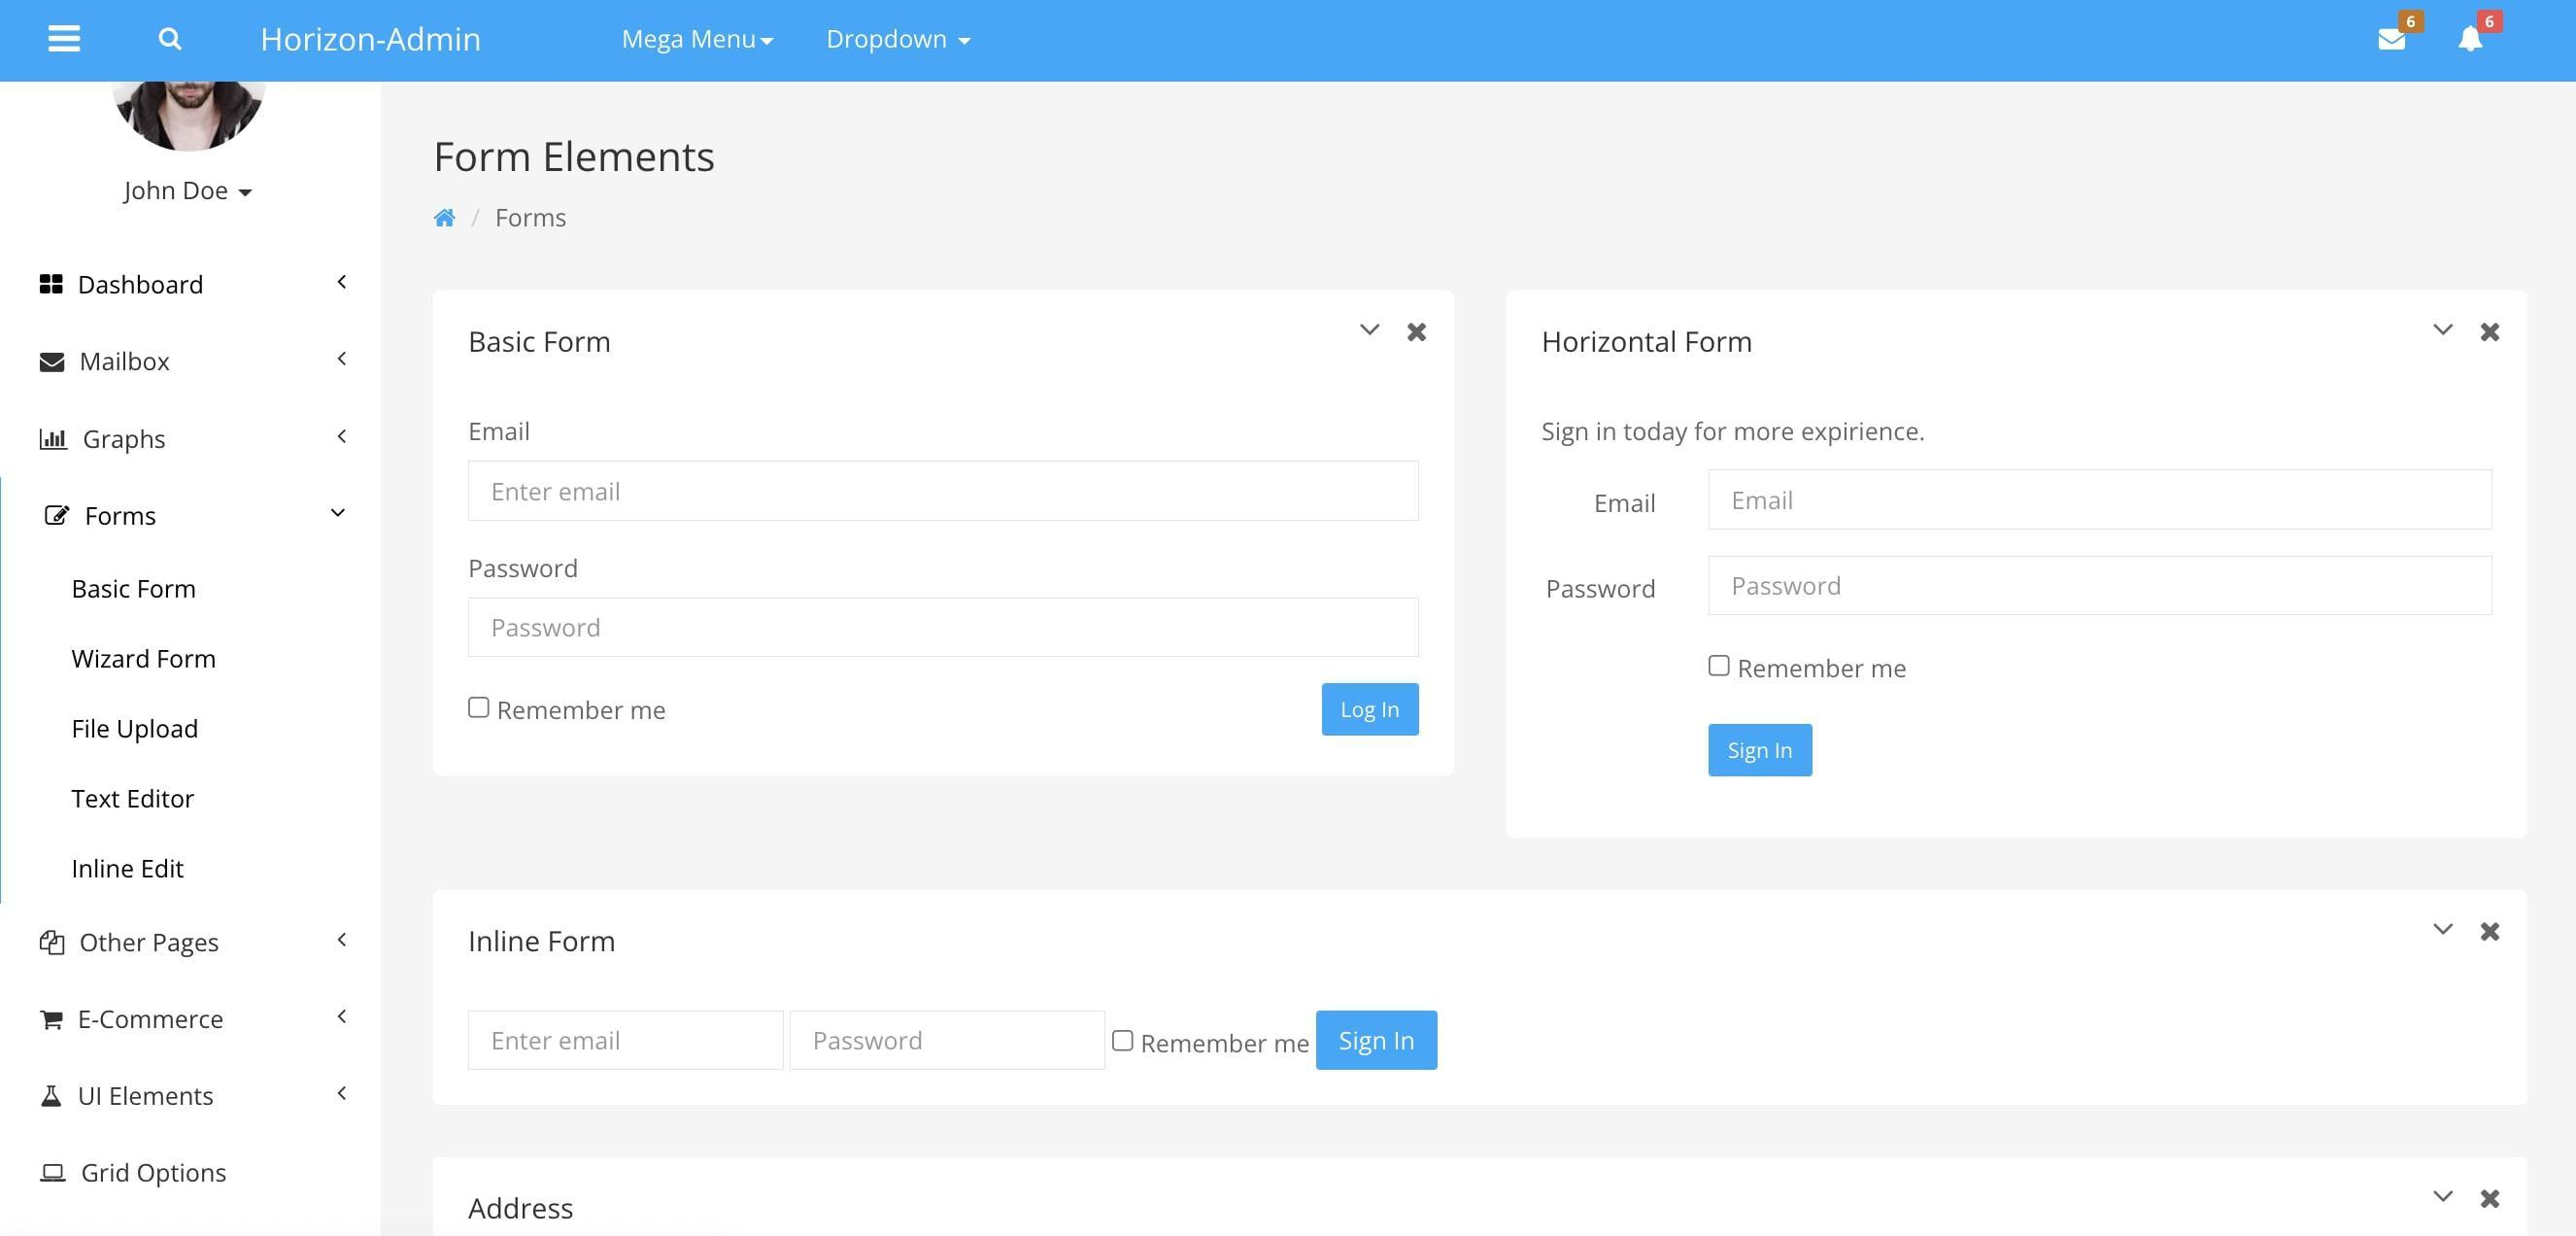button: (1314, 1012, 1444, 1072), (1324, 685, 1419, 738), (1712, 725, 1810, 774)
checkbox: (1707, 656, 1732, 676), (1112, 1029, 1135, 1049), (471, 697, 490, 720)
icon: (43, 18, 89, 61), (30, 422, 72, 459), (39, 1078, 71, 1121), (46, 23, 85, 56), (39, 500, 79, 533), (154, 20, 187, 58), (2425, 912, 2461, 945), (34, 271, 76, 299), (2476, 316, 2509, 350), (2428, 1178, 2461, 1213), (39, 1157, 72, 1190), (2474, 1182, 2505, 1216), (2477, 914, 2507, 950), (36, 925, 69, 957), (1403, 317, 1436, 348), (39, 1004, 71, 1035), (2428, 316, 2461, 344), (159, 20, 184, 56), (39, 348, 67, 378), (2377, 28, 2408, 54), (430, 205, 460, 232), (332, 266, 358, 294), (432, 204, 458, 232), (324, 501, 353, 526), (2461, 25, 2486, 53), (1357, 319, 1385, 344), (333, 348, 355, 376), (335, 925, 355, 955), (333, 1004, 353, 1032), (333, 1080, 353, 1108), (333, 426, 356, 449)
input: (470, 597, 1418, 657), (467, 463, 1421, 521), (1707, 559, 2499, 620), (1707, 473, 2494, 531), (470, 1011, 784, 1072), (790, 1011, 1104, 1070)
label: (1536, 414, 1925, 449), (429, 141, 723, 176), (263, 21, 485, 56), (1736, 653, 1912, 687), (498, 697, 674, 726), (462, 1188, 588, 1228), (1137, 1034, 1313, 1058), (1539, 572, 1659, 605), (467, 556, 582, 587), (76, 273, 209, 299), (467, 416, 536, 447), (1592, 490, 1656, 518), (496, 209, 568, 230)
